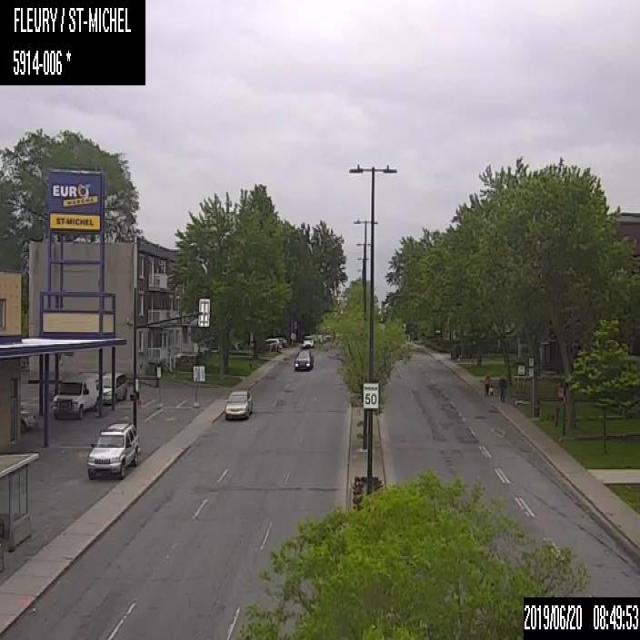pedestrian: (482, 370, 493, 394), (498, 374, 506, 402)
vehicle: (86, 419, 140, 480), (51, 370, 97, 418), (96, 370, 128, 406), (223, 388, 251, 417), (20, 403, 36, 432), (292, 346, 312, 369), (264, 337, 282, 351), (301, 334, 314, 346)
